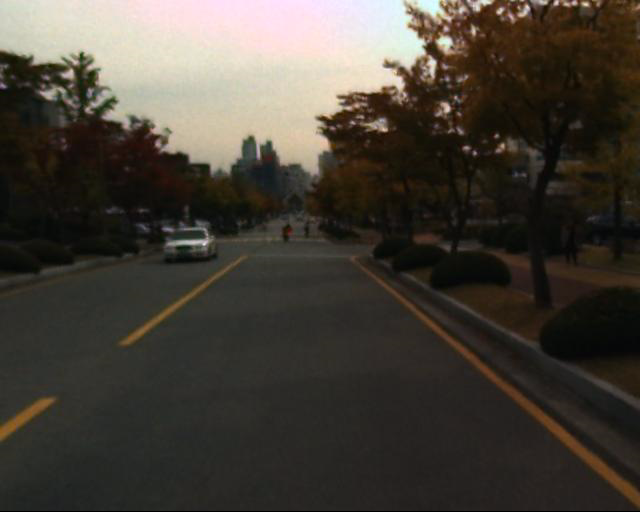person: (557, 217, 581, 272)
